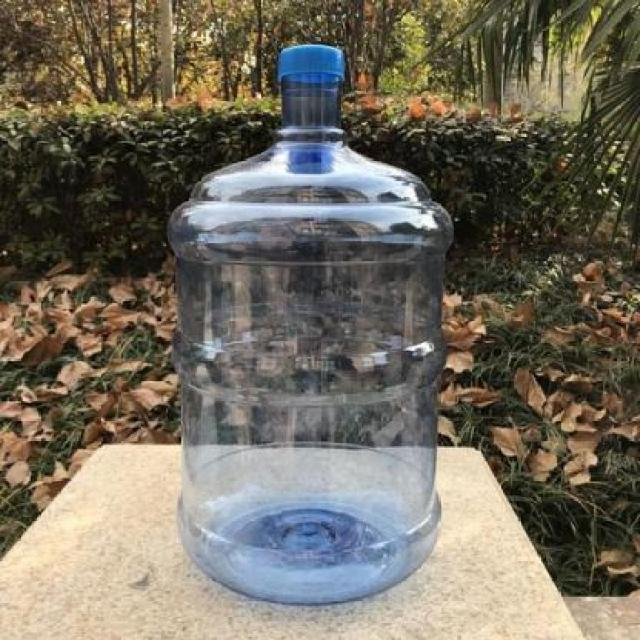coolerbottle: (164, 40, 460, 609)
